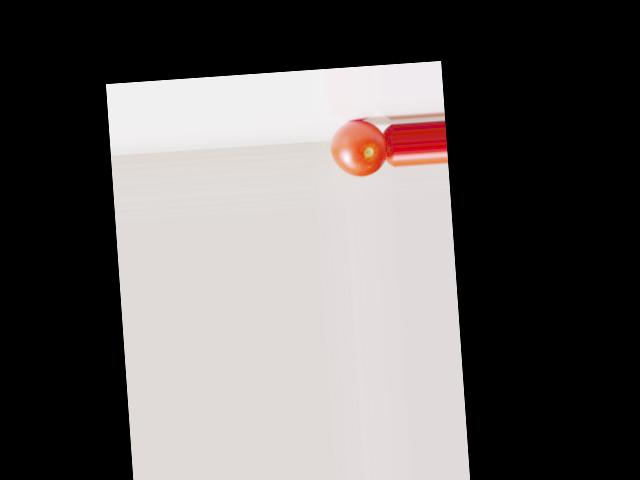tomato: (329, 118, 388, 178)
